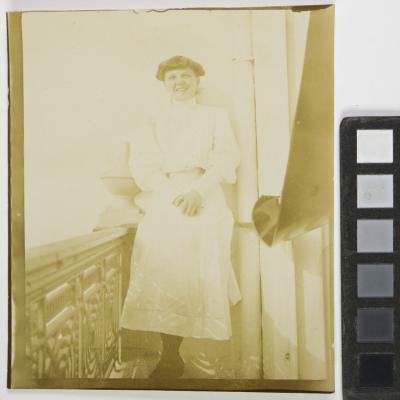photos_negatives: (14, 6, 343, 387)
